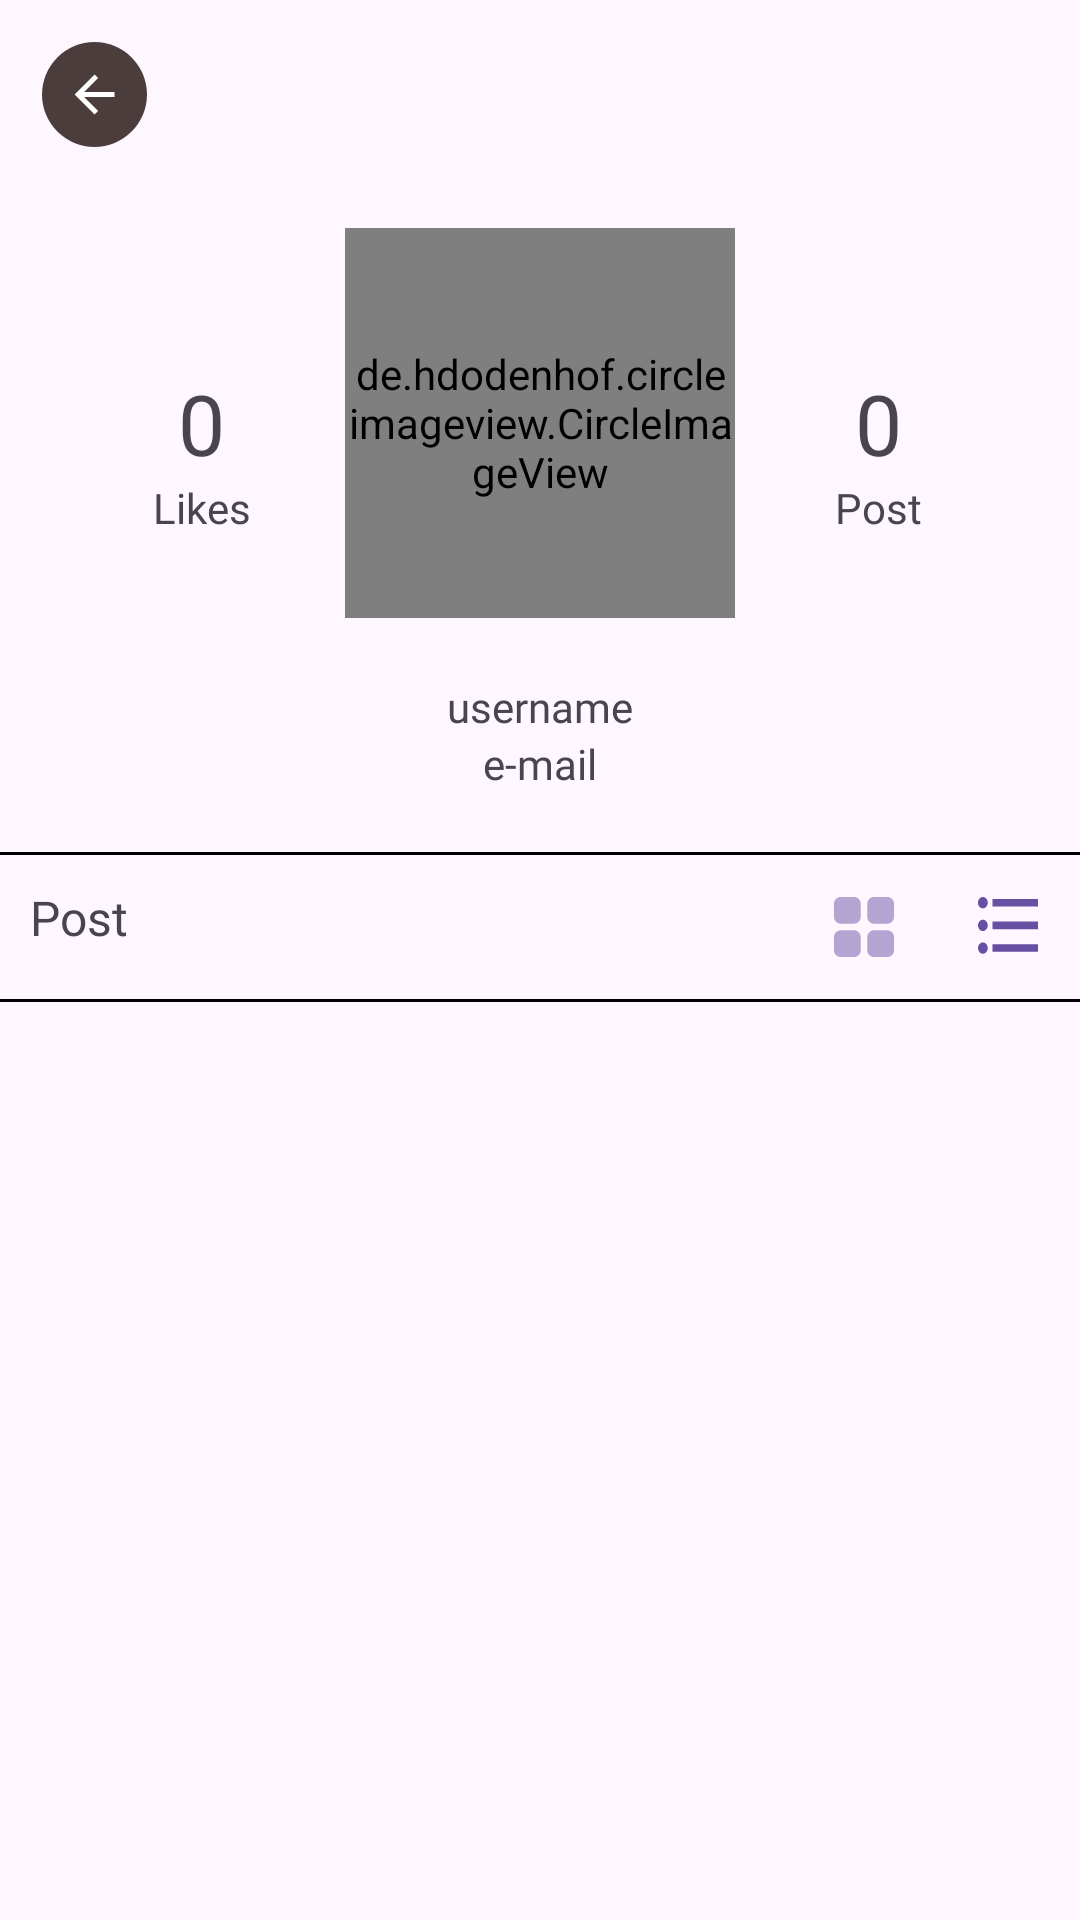

Screen size 1080×1920. Icon name, then its box in pixels as rect(x1, y1, x2, y2):
back: rect(42, 42, 147, 147)
grid: rect(834, 897, 894, 957)
list: rect(978, 897, 1038, 954)
